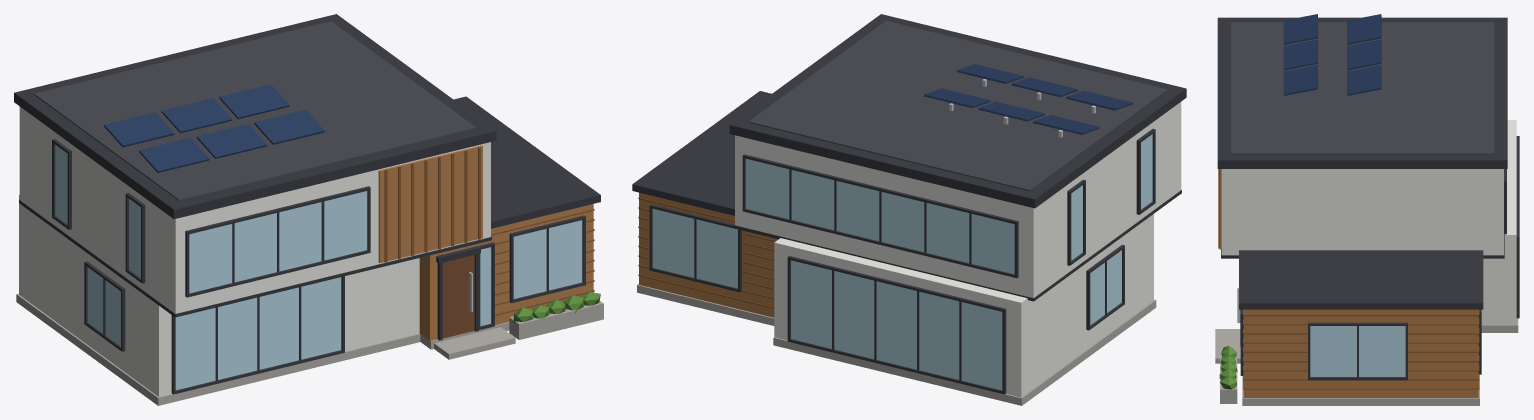
Rendered from house_modern.glb.
3 renders of one model, left to right at view 1: azimuth 30°, elevation 25°; view 2: azimuth 150°, elevation 25°; view 3: azimuth 270°, elevation 25°, orthographic. The views are drawn at different scales.
Visible parts, largest first — view 1: house_modern; view 2: house_modern; view 3: house_modern.
Part boxes in pixels (x1,y1,x2,y2): house_modern: (14, 14, 603, 405); house_modern: (632, 14, 1186, 405); house_modern: (1215, 14, 1519, 405).
Size of the model in its own units: 14.47 by 7.24 by 9.6.
